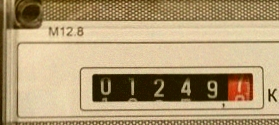0: (98, 75, 112, 96)
1: (125, 75, 137, 96)
2: (150, 76, 166, 98)
4: (179, 76, 192, 96)
7: (233, 73, 246, 93)
9: (205, 78, 218, 99)
screen: (76, 62, 267, 113)
